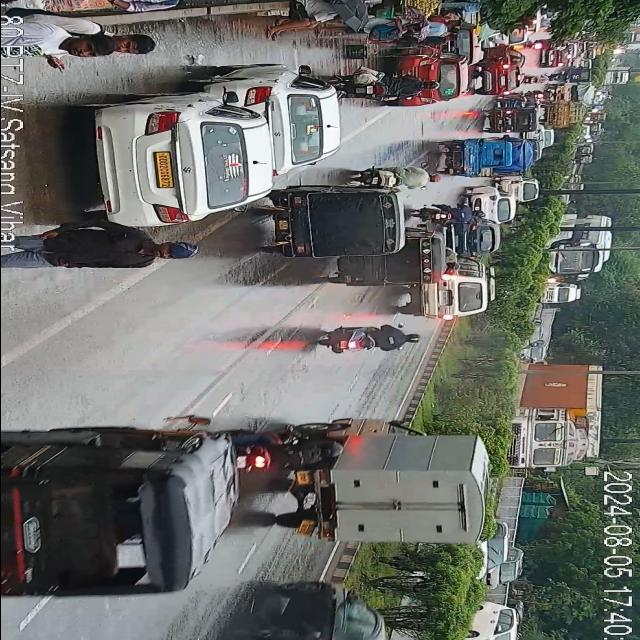2-wheelers: (228, 426, 346, 471), (316, 324, 420, 364), (340, 75, 436, 102), (362, 165, 438, 189), (414, 204, 484, 223), (526, 73, 552, 89)
auto: (0, 429, 235, 597), (263, 182, 407, 264), (328, 228, 446, 292), (442, 138, 510, 178), (482, 105, 540, 137), (578, 143, 594, 155), (577, 154, 591, 164), (568, 175, 580, 182)
bus: (542, 214, 612, 274), (540, 284, 580, 304)
car: (89, 86, 268, 226), (227, 66, 341, 174), (256, 580, 388, 640), (394, 262, 488, 324), (461, 520, 509, 576), (458, 601, 522, 640), (479, 49, 522, 96), (451, 218, 496, 260), (464, 186, 512, 223), (484, 554, 526, 588), (504, 178, 544, 202), (543, 42, 573, 68), (530, 126, 556, 146)
pedestrian: (0, 230, 195, 284), (39, 30, 121, 70), (101, 18, 169, 66), (266, 0, 341, 38), (0, 0, 204, 13), (318, 20, 420, 36), (378, 36, 459, 48), (426, 24, 461, 36), (427, 12, 459, 24)
truck: (278, 415, 491, 551), (501, 361, 598, 476), (482, 142, 531, 176), (544, 102, 585, 128), (544, 82, 590, 104)
